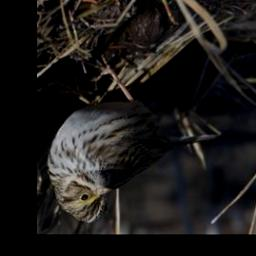Sparrow: (46, 56, 220, 225)
